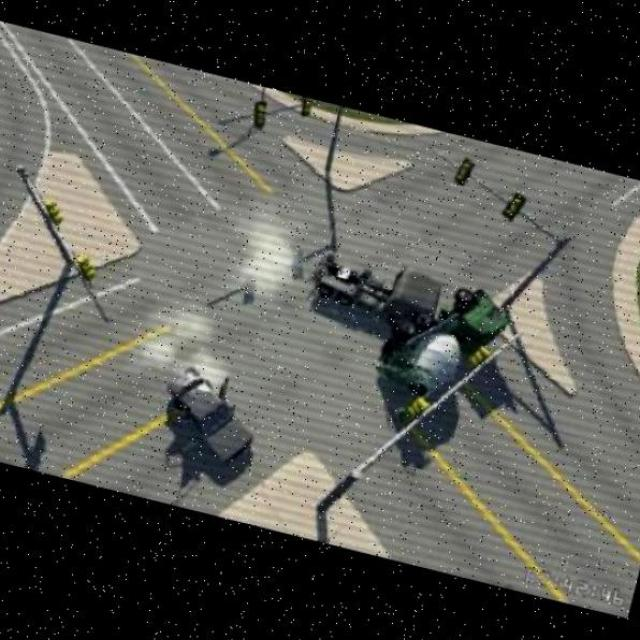accident: (280, 236, 520, 416)
